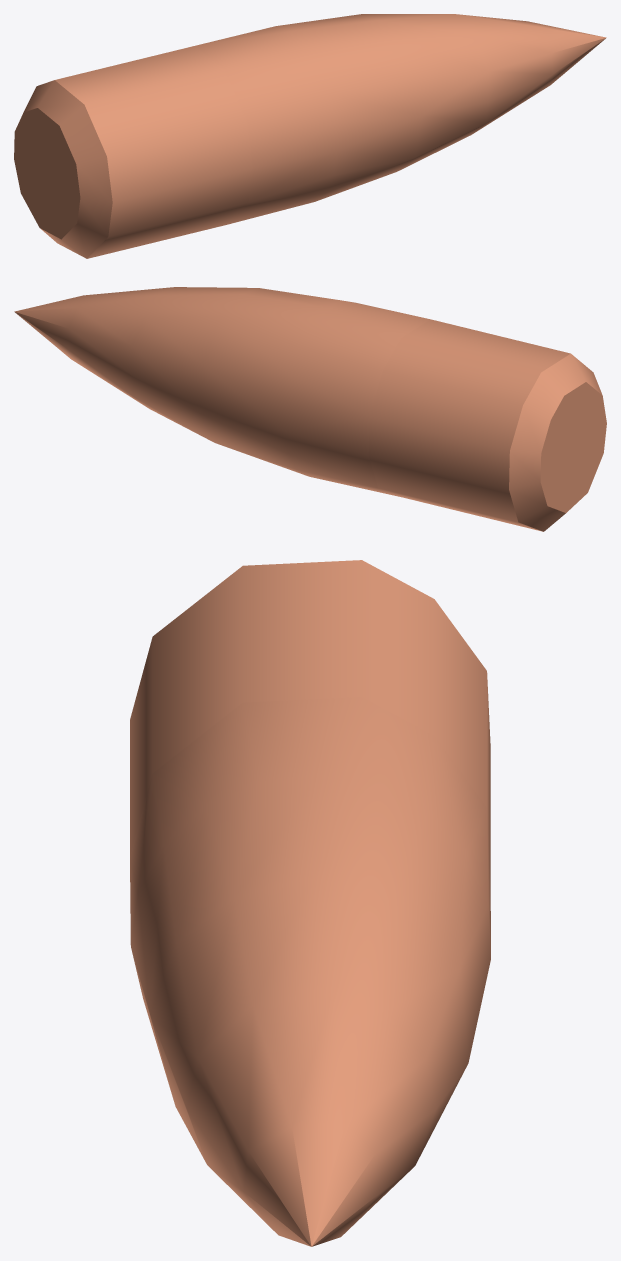
Rendered from 7,62x51_NATO_Slug.fbx.
3 renders of one model, top to bottom at view 1: azimuth 30°, elevation 25°; view 2: azimuth 150°, elevation 25°; view 3: azimuth 270°, elevation 25°, orthographic. The views are drawn at different scales.
Visible parts, largest first — view 1: 7,62x51_NATO_Slug; view 2: 7,62x51_NATO_Slug; view 3: 7,62x51_NATO_Slug.
Boxes of the visible parts, x1,y1,x2,y2 form: 7,62x51_NATO_Slug: (14,14,606,258); 7,62x51_NATO_Slug: (14,287,606,531); 7,62x51_NATO_Slug: (130,560,490,1246).
Size of the model in its own units: 2.79 by 0.7784 by 0.7807.
